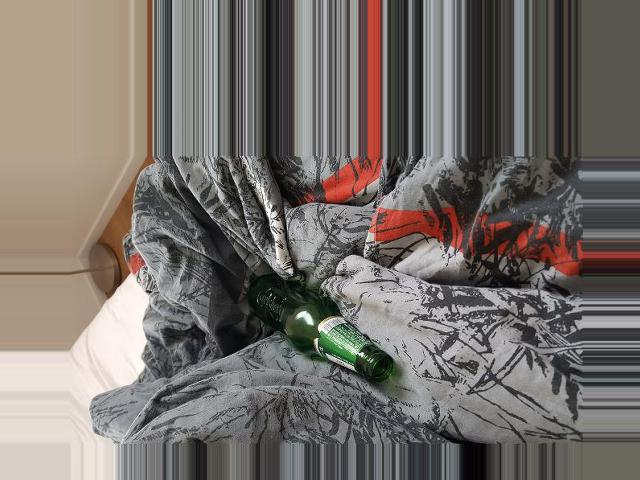beer: (248, 274, 395, 380)
